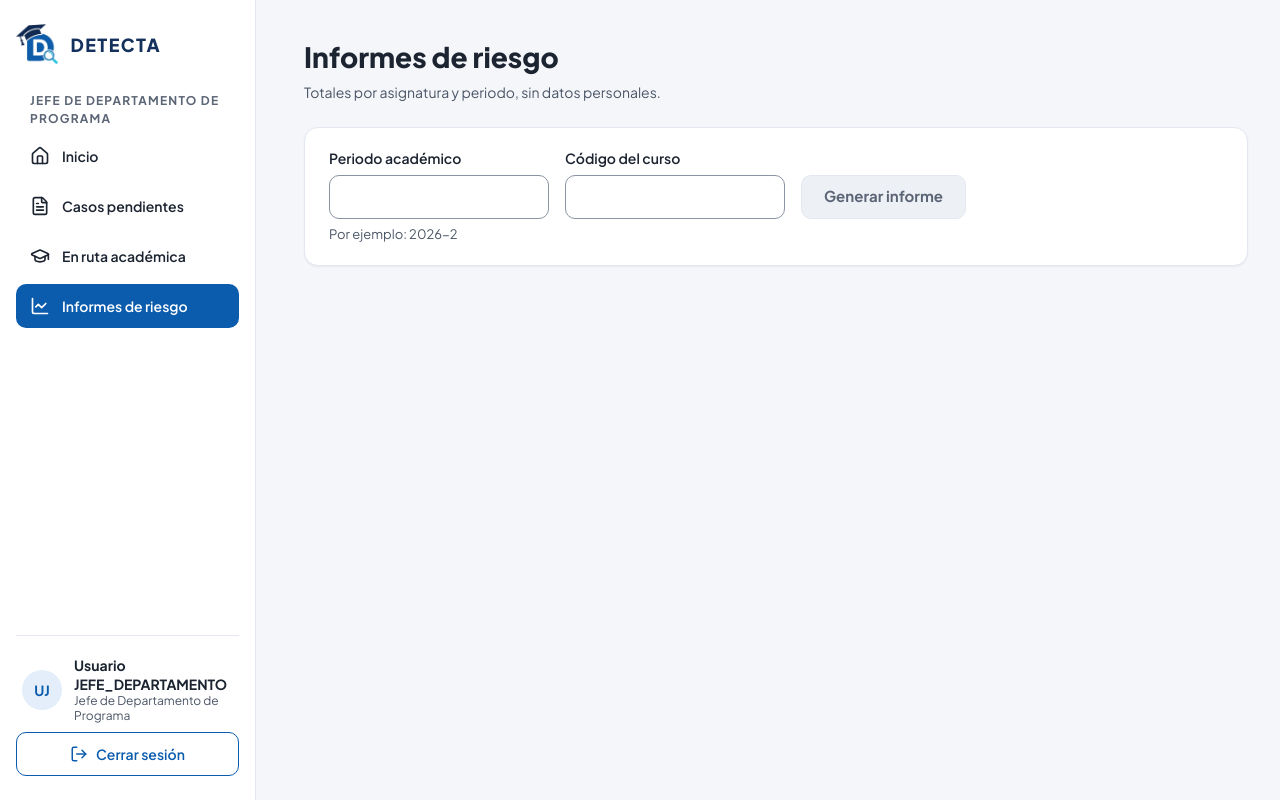
Scenario: Informes de riesgo: resultado y exportación (CUD10) › 201: totales con sus definiciones y el resumen
Type "2026-2" into the field labelled "Periodo académico" at (439, 197), box top-left (329, 175), bottom-right (549, 219)
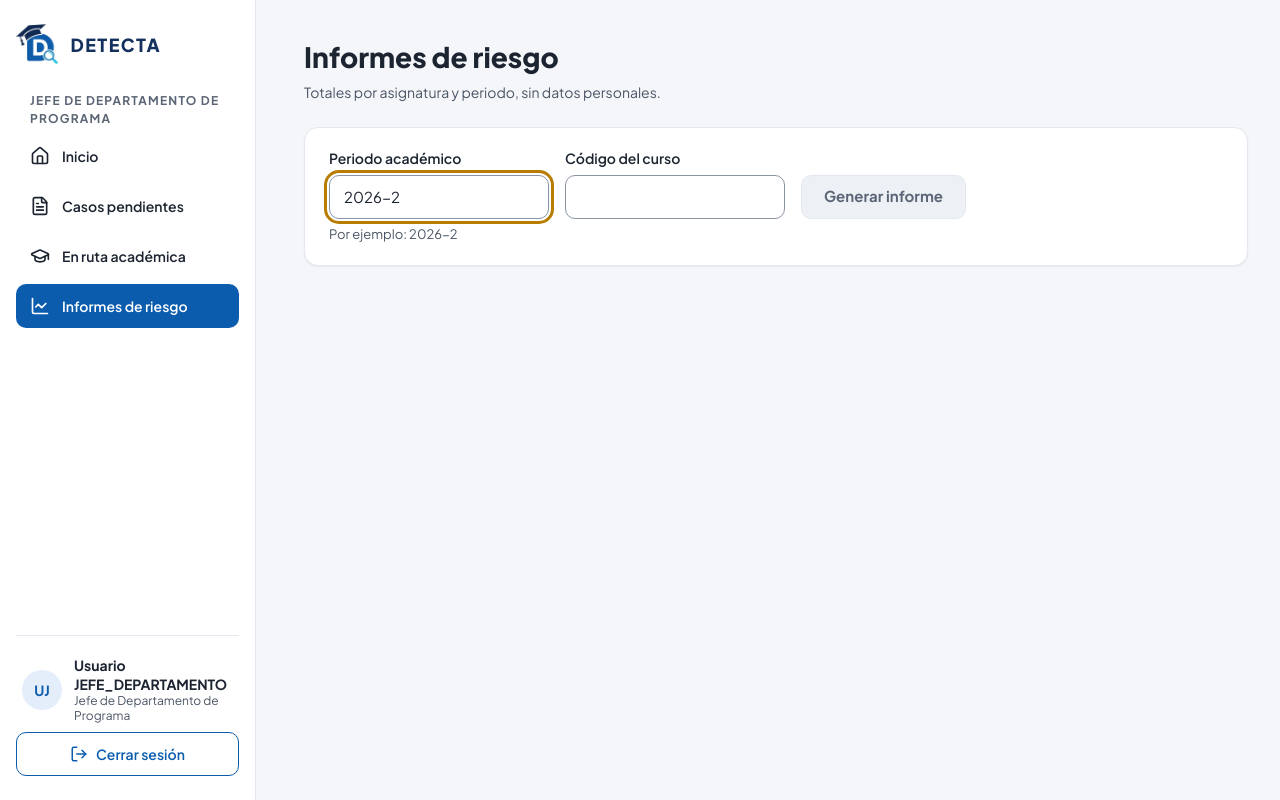
Type "MAT-201" into the field labelled "Código del curso" at (675, 197), box top-left (565, 175), bottom-right (785, 219)
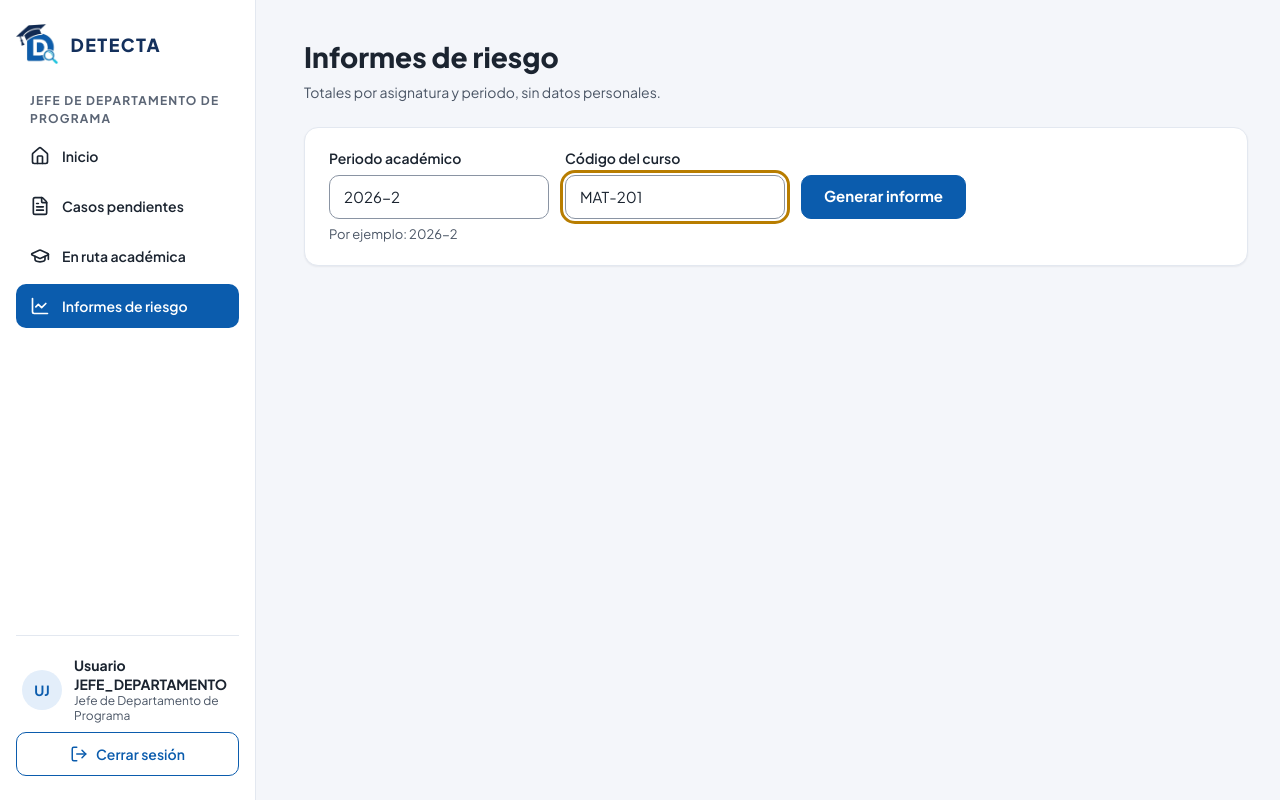
Click the button "Generar informe" at (883, 197), box top-left (801, 175), bottom-right (966, 219)
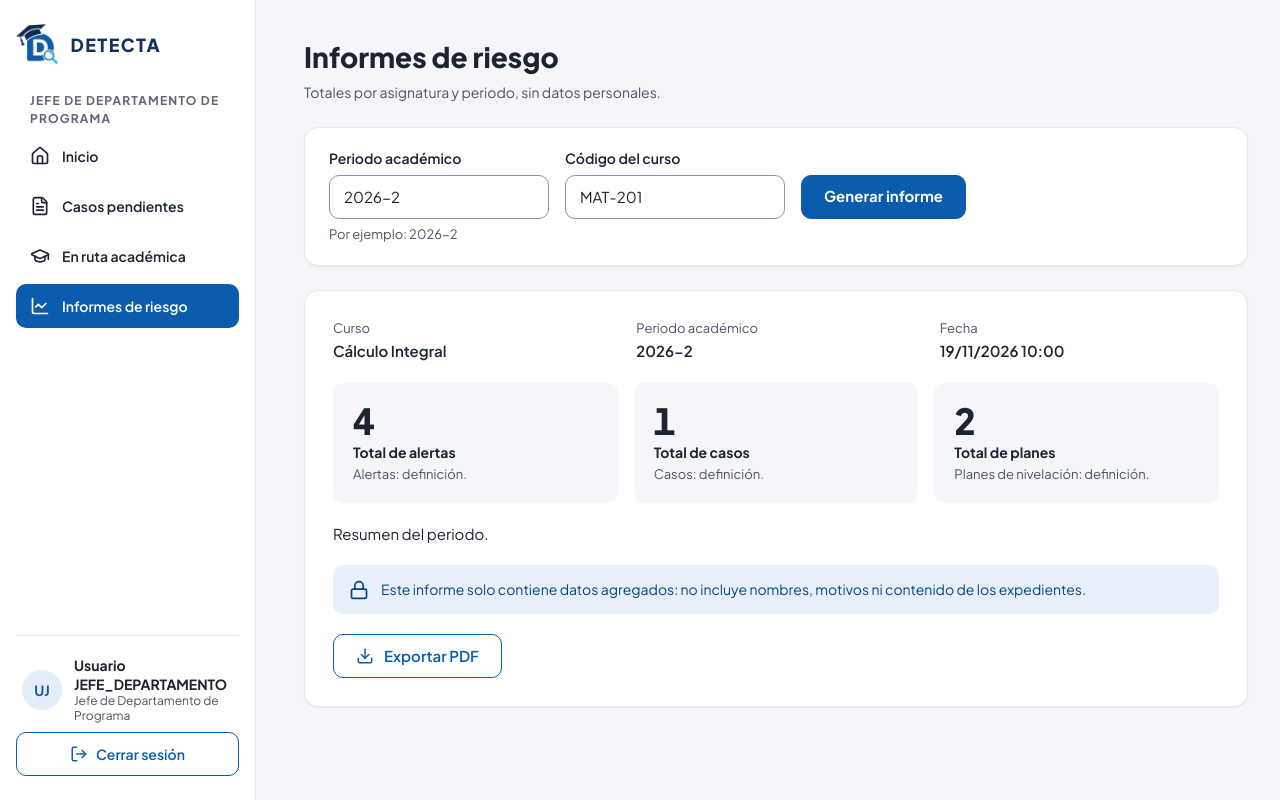
Now the text "Total de alertas" is shown, box top-left (353, 443), bottom-right (456, 461)
Now the text "Total de casos" is shown, box top-left (654, 443), bottom-right (750, 461)
Now the text "Total de planes" is shown, box top-left (954, 443), bottom-right (1055, 461)
